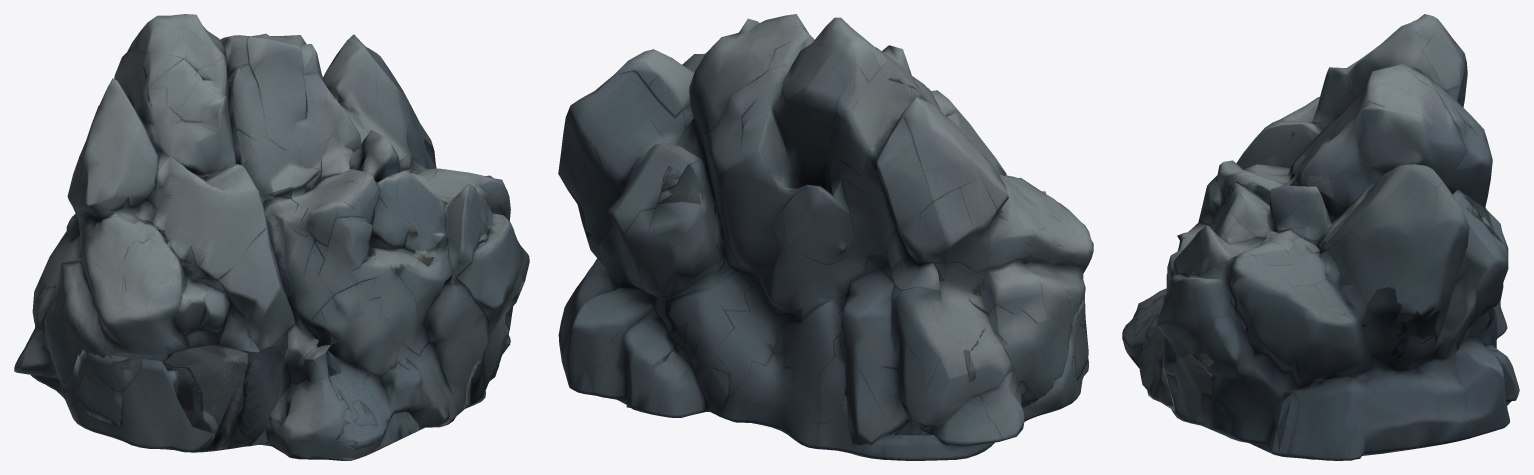
File: crag.glb
3 views of the same model, side by side, from view 1: azimuth 30°, elevation 25°; view 2: azimuth 150°, elevation 25°; view 3: azimuth 270°, elevation 25° (orthographic). The views are drawn at different scales.
Visible parts, largest first — view 1: CRAG; view 2: CRAG; view 3: CRAG.
Boxes of the visible parts, x1,y1,x2,y2 form: CRAG: [14, 14, 529, 460]; CRAG: [558, 14, 1093, 460]; CRAG: [1122, 14, 1519, 460].
Size of the model in its own units: 2.7 by 2.03 by 2.3.
1 material, 1 textured.
